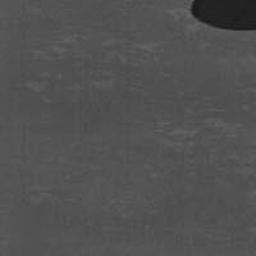Punching: (192, 0, 256, 31)
